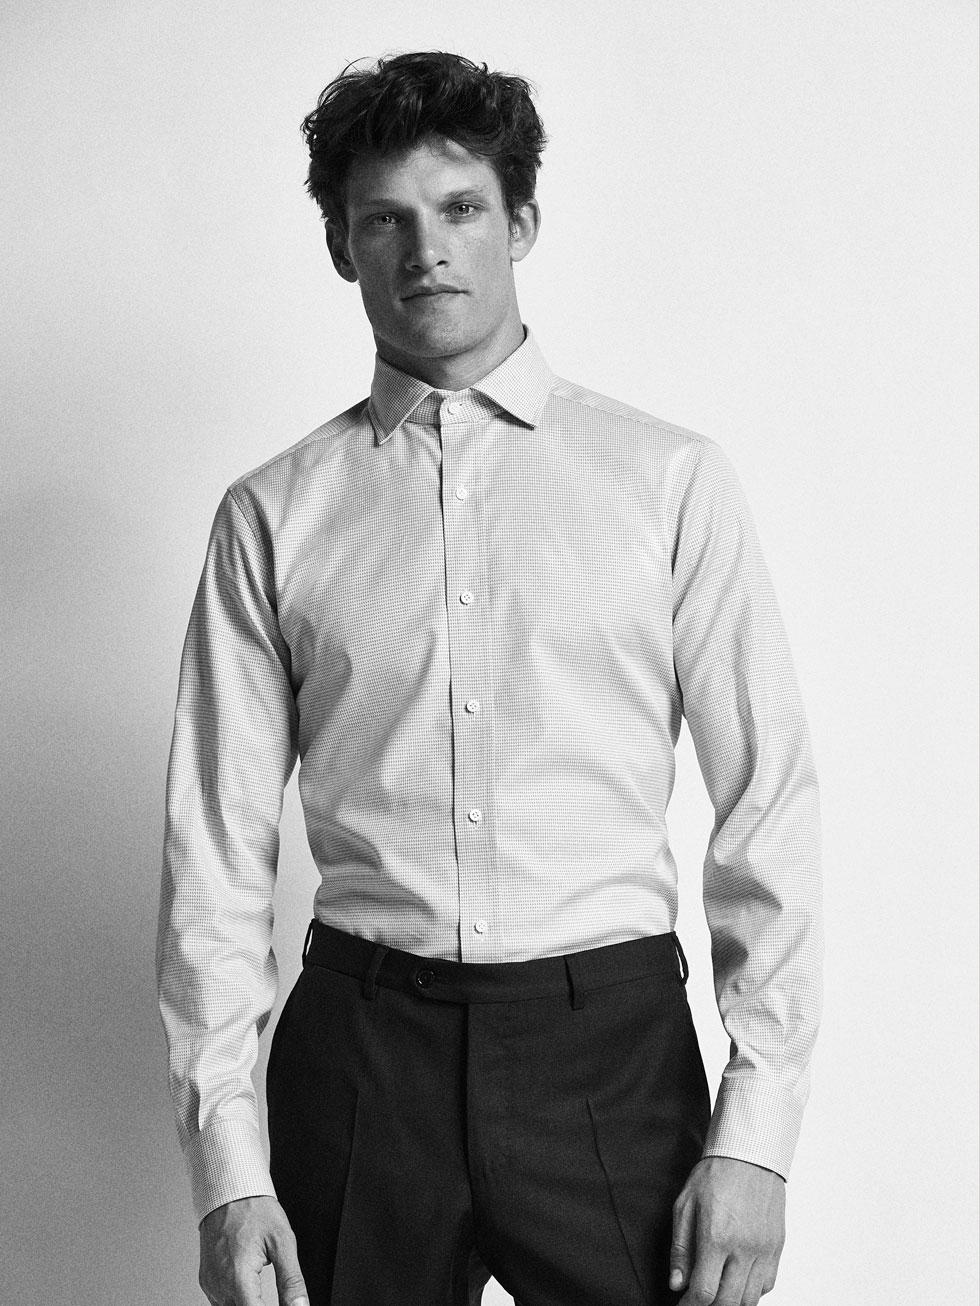teeshirt: (165, 336, 849, 1193)
